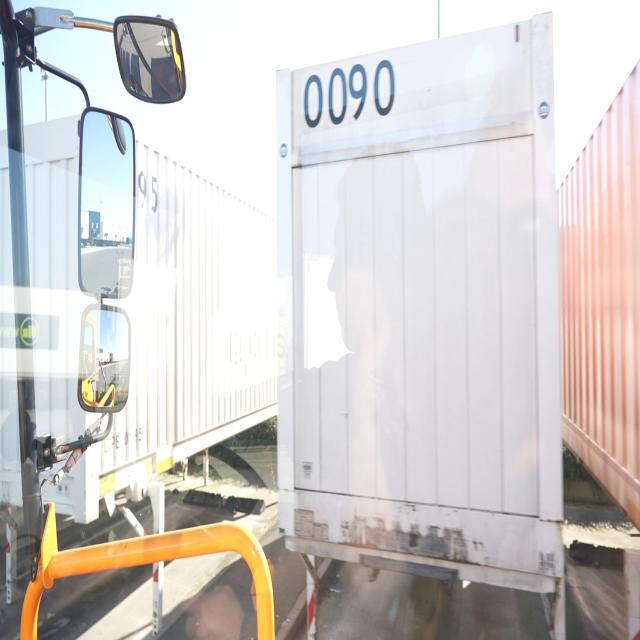Code: (303, 51, 396, 136)
